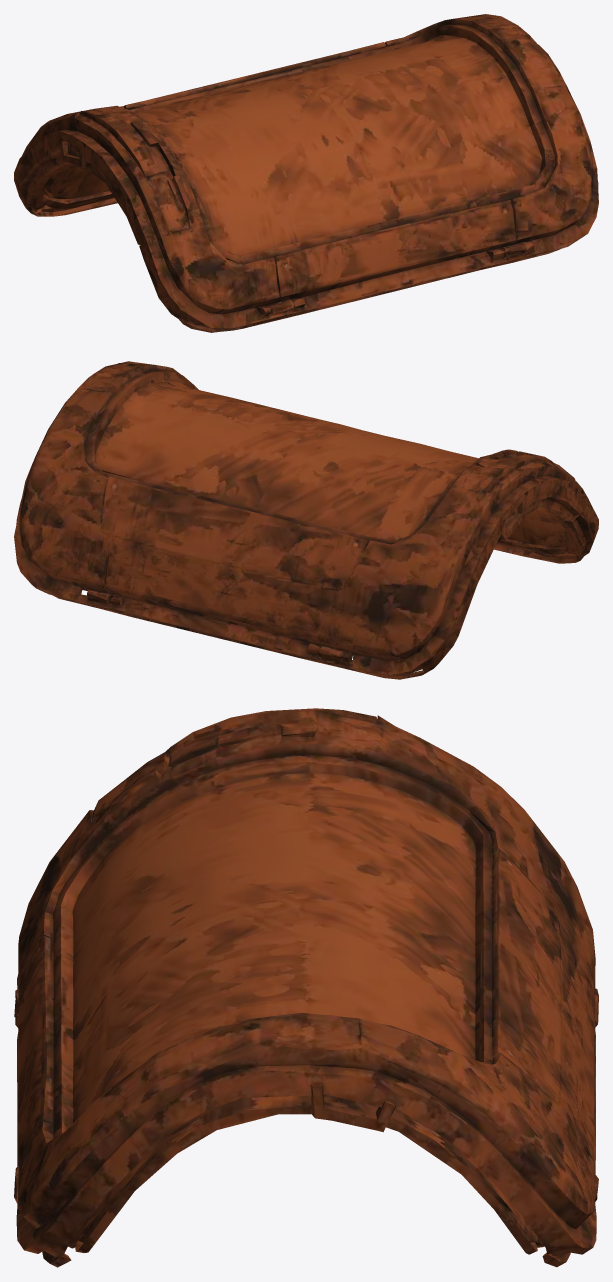
The model's file is capture.recruit_container_decoy_glass.glb.
3 renders of one model, top to bottom at view 1: azimuth 30°, elevation 25°; view 2: azimuth 150°, elevation 25°; view 3: azimuth 270°, elevation 25°, orthographic. The views are drawn at different scales.
Visible parts, largest first — view 1: body; view 2: body; view 3: body.
Boxes of the visible parts, x1=… form: body: x1=14, y1=14, x2=598, y2=332; body: x1=14, y1=361, x2=598, y2=679; body: x1=14, y1=708, x2=598, y2=1267.
Size of the model in its own units: 1.84 by 0.6384 by 1.29.
1 material, 1 textured.
